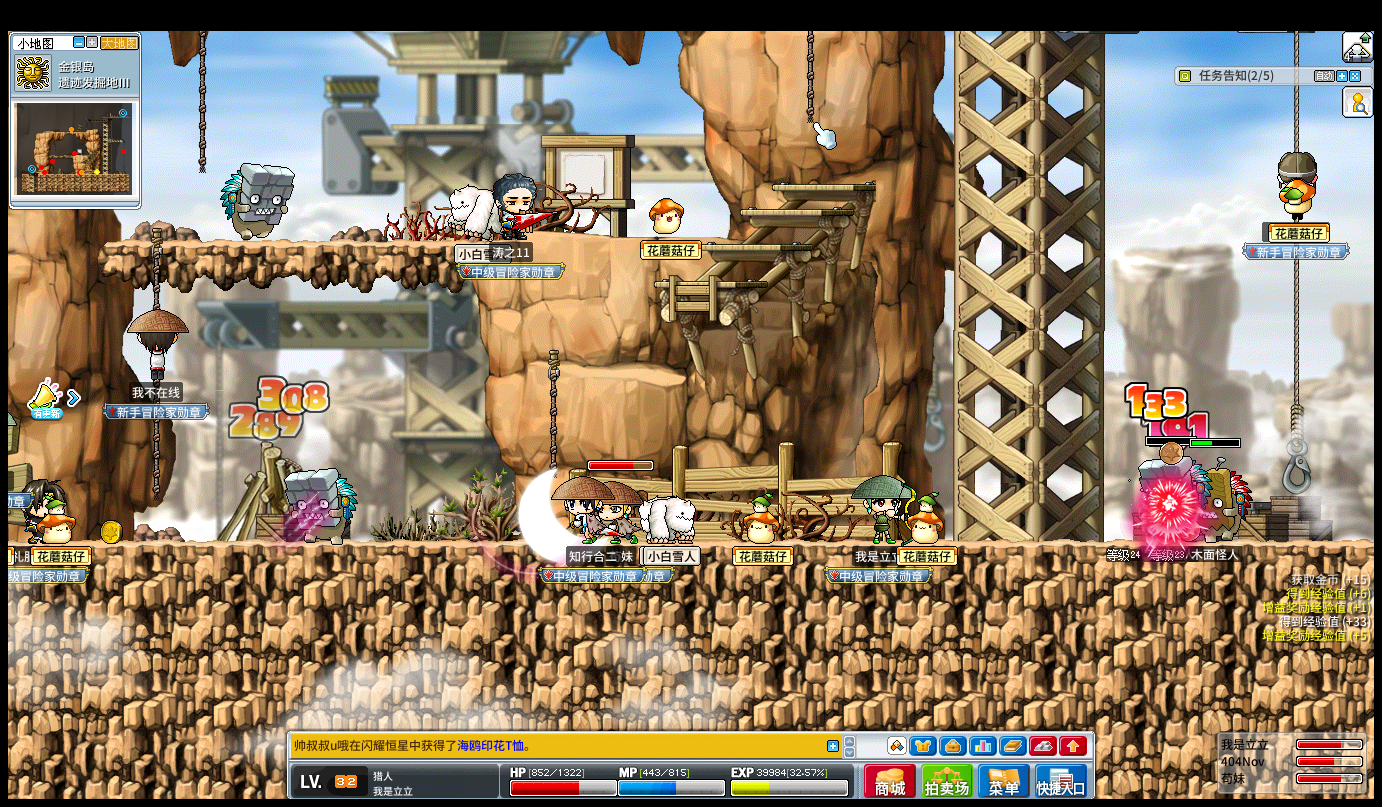floor: (9, 539, 1373, 550), (107, 236, 485, 250), (581, 364, 687, 387), (652, 280, 767, 291), (741, 207, 846, 215), (773, 183, 876, 190)
monster: (1137, 454, 1211, 539), (219, 163, 296, 241), (286, 469, 357, 544), (1201, 460, 1251, 539)
rope: (547, 349, 561, 474), (1293, 257, 1304, 407), (198, 32, 207, 176), (151, 419, 164, 503), (151, 225, 164, 308), (803, 31, 814, 124), (806, 30, 815, 123), (151, 417, 160, 499), (1293, 31, 1299, 151)
